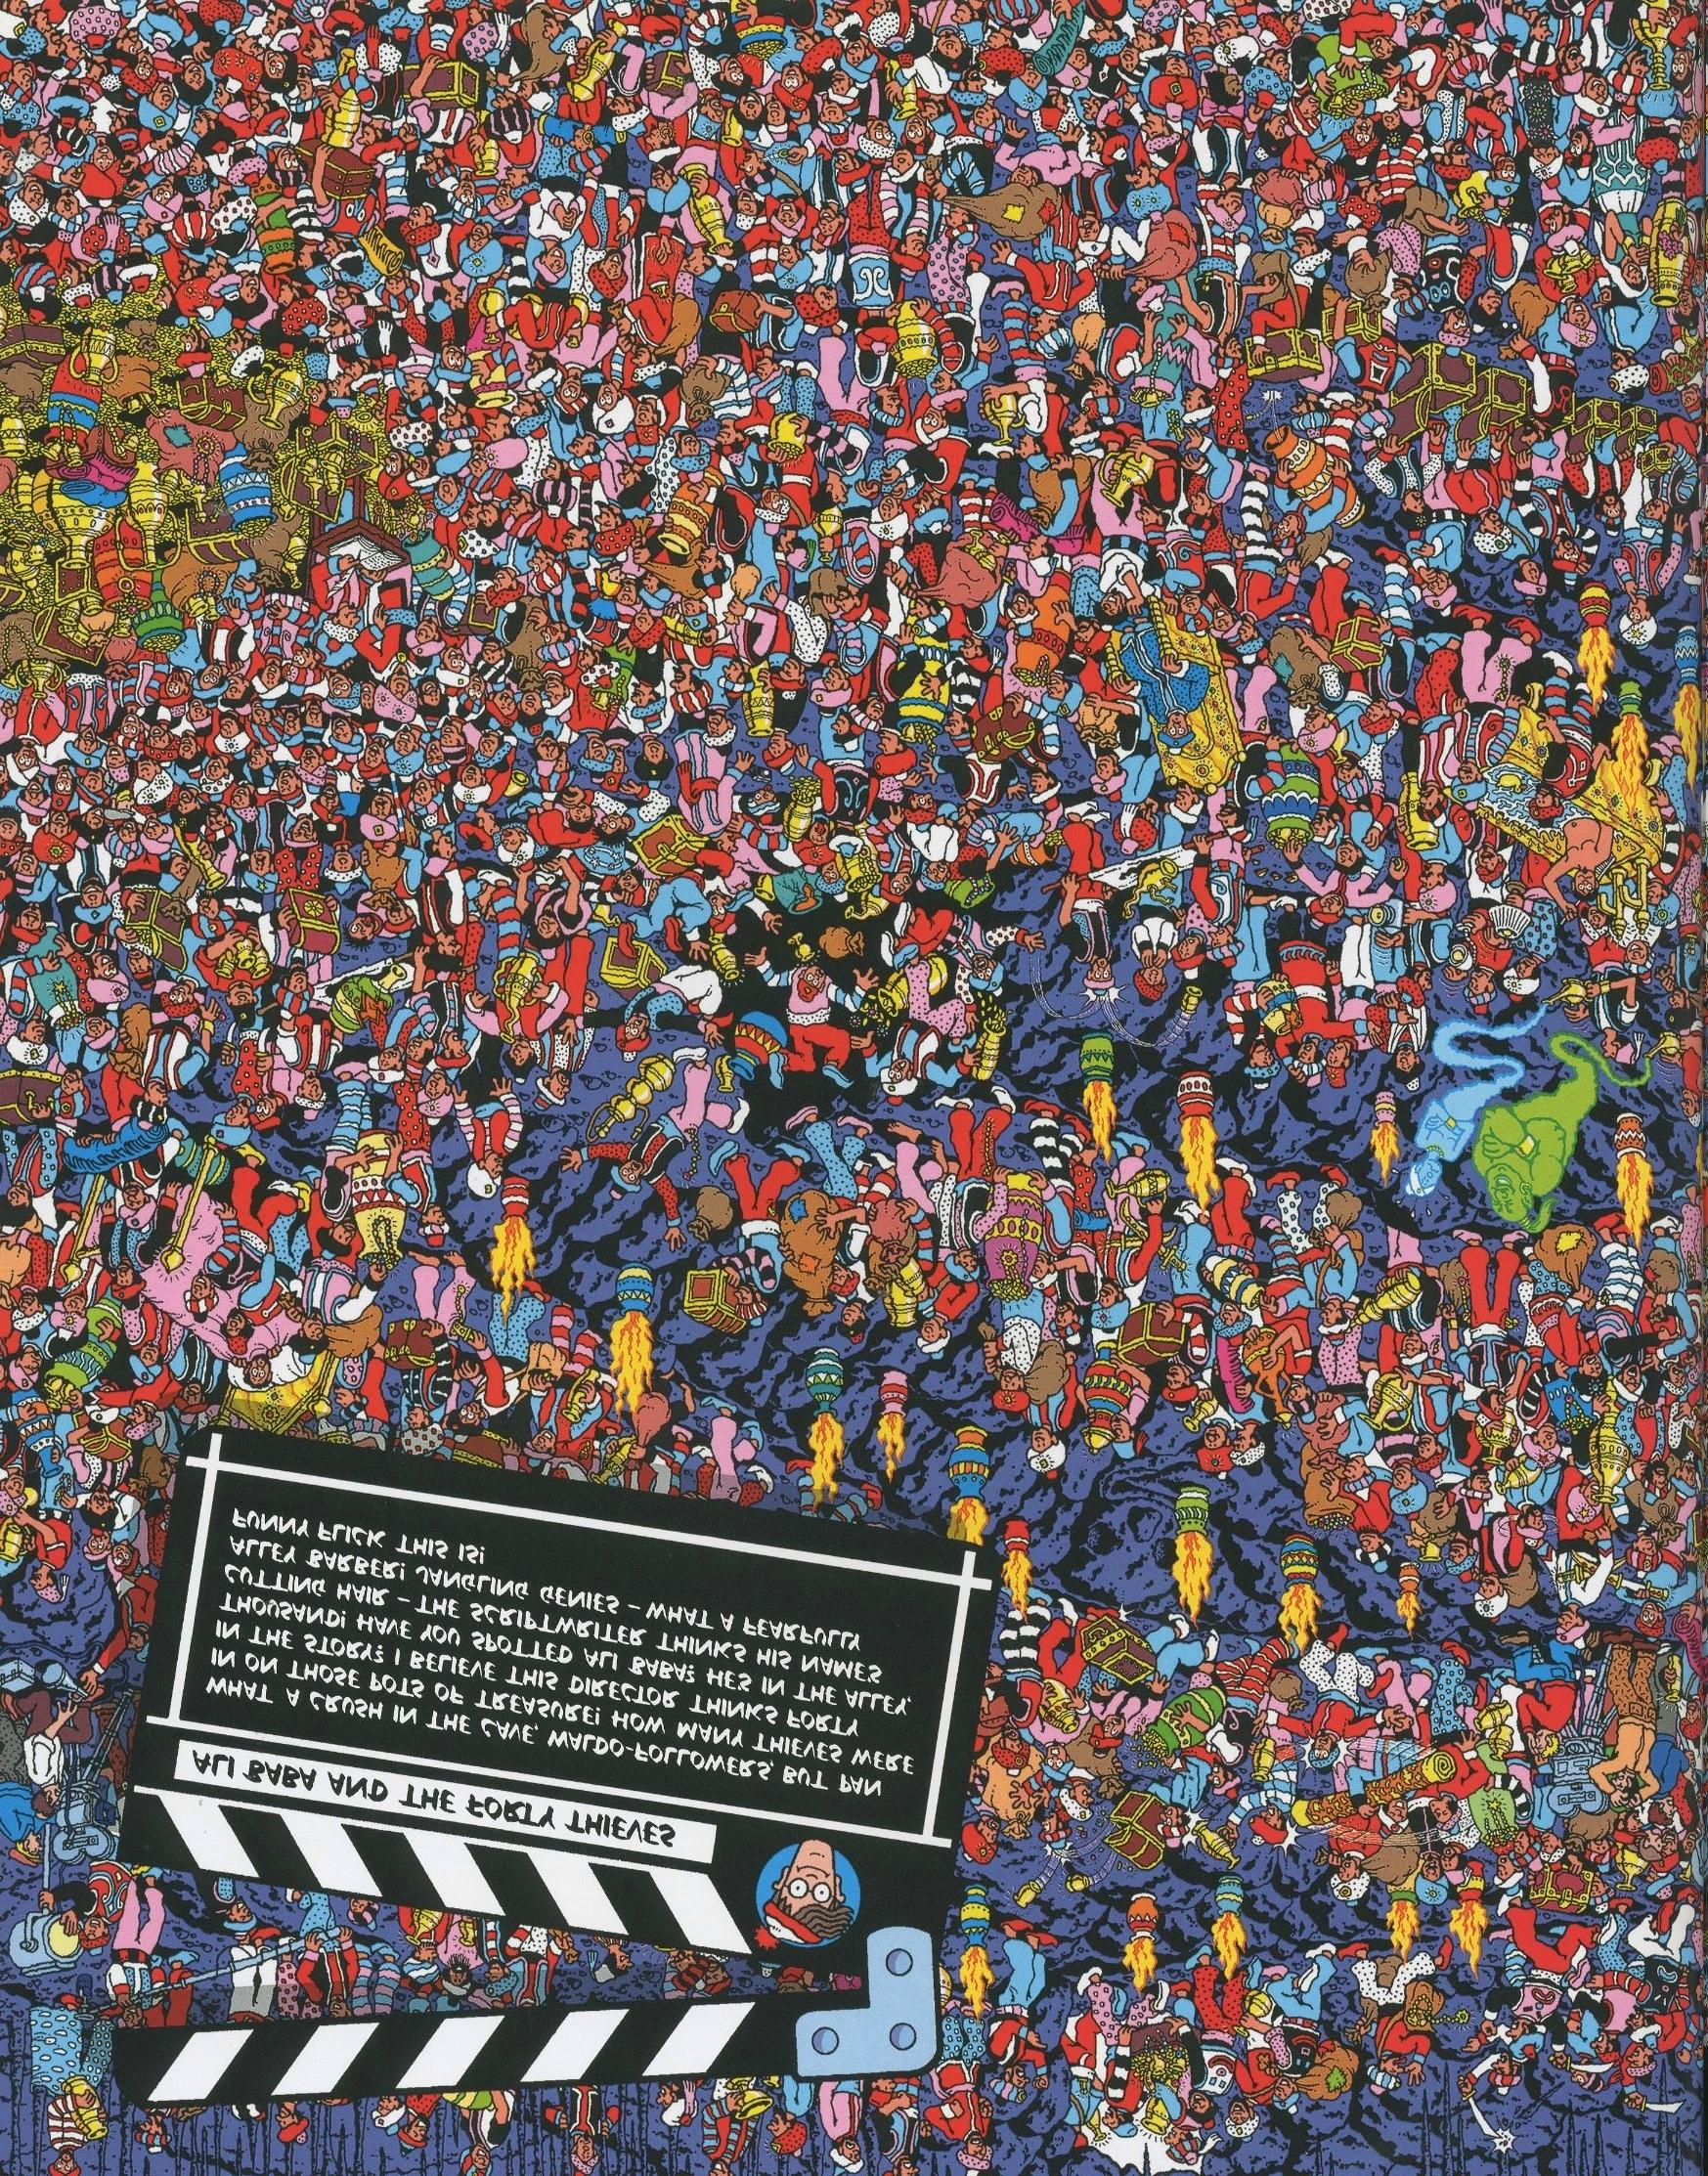waldos: (747, 1835, 857, 1959)
